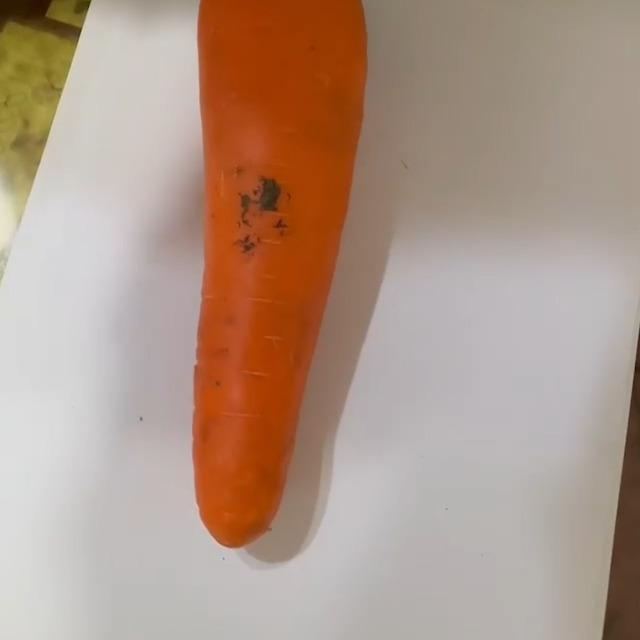carrot: (186, 1, 379, 551)
